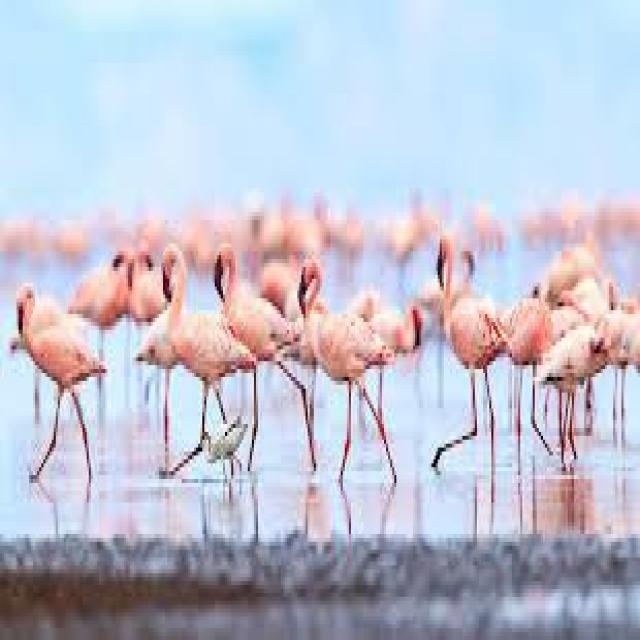Flamingo: (297, 255, 400, 486), (211, 239, 302, 480), (160, 240, 256, 468), (12, 278, 108, 500), (430, 233, 508, 504)
